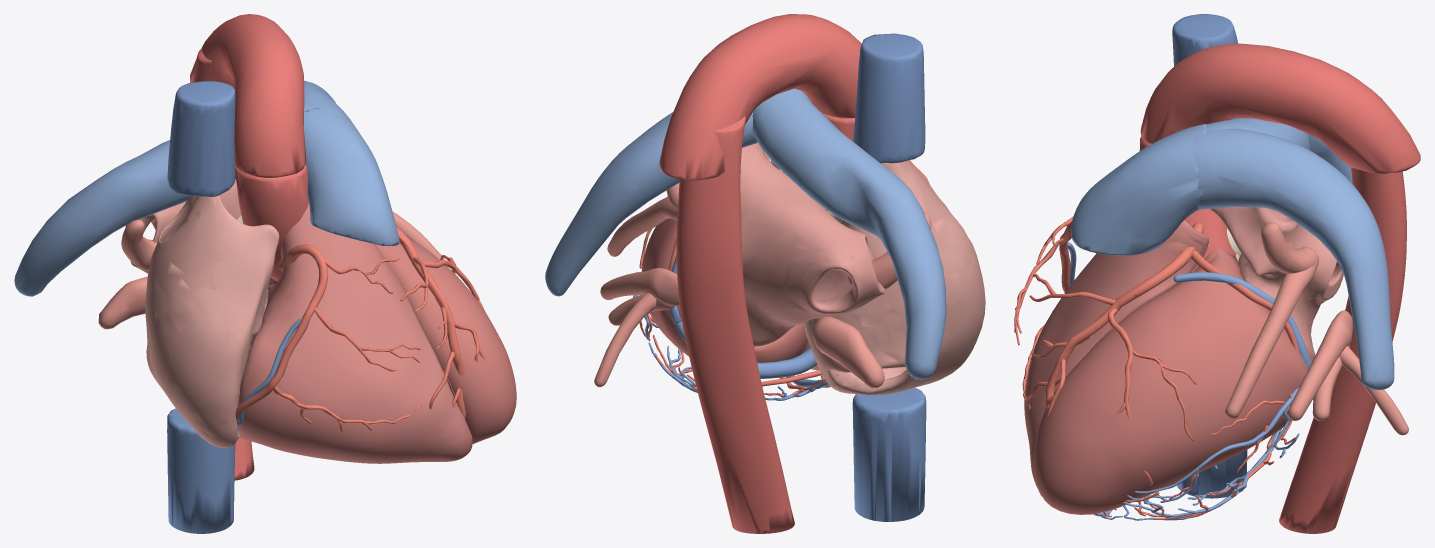
File: heart.glb
The picture shows the model from 3 angles, left to right: view 1: azimuth 30°, elevation 25°; view 2: azimuth 150°, elevation 25°; view 3: azimuth 270°, elevation 25°; orthographic projection. The views are drawn at different scales.
Visible parts, largest first — view 1: right_ventricle, right_atrium, aortic_arch, left_ventricle, right_pulmonary_artery, pulmonary_trunk, superior_vena_cava, inferior_vena_cava, right_coronary_artery, ascending_aorta, anterior_interventricular_artery, right_pulmonary_veins (+5 smaller); view 2: descending_aorta, right_pulmonary_artery, aortic_arch, left_atrium, right_atrium, inferior_vena_cava, left_pulmonary_artery, superior_vena_cava, left_pulmonary_veins, right_pulmonary_veins, left_ventricle, coronary_sinus (+2 smaller); view 3: left_ventricle, aortic_arch, left_pulmonary_artery, descending_aorta, pulmonary_trunk, right_ventricle, left_pulmonary_veins, left_atrium, anterior_interventricular_artery, right_coronary_artery, other_cardiac_veins, superior_vena_cava (+5 smaller).
Part boxes in pixels (x1,y1,x2,y2): right_ventricle: (238, 203, 472, 463); right_atrium: (145, 195, 279, 447); aortic_arch: (190, 14, 305, 177); left_ventricle: (268, 238, 516, 443); right_pulmonary_artery: (14, 101, 313, 296); pulmonary_trunk: (303, 108, 399, 246); superior_vena_cava: (167, 81, 235, 196); inferior_vena_cava: (167, 408, 235, 533); right_coronary_artery: (235, 244, 421, 431); ascending_aorta: (235, 164, 308, 281); anterior_interventricular_artery: (396, 227, 486, 418); right_pulmonary_veins: (98, 219, 156, 329); descending_aorta: (676, 116, 794, 533); right_pulmonary_artery: (752, 88, 946, 379); aortic_arch: (659, 14, 861, 180); left_atrium: (740, 143, 885, 346); right_atrium: (804, 160, 985, 395); inferior_vena_cava: (852, 387, 926, 521); left_pulmonary_artery: (545, 111, 757, 296); superior_vena_cava: (853, 33, 925, 163); left_pulmonary_veins: (594, 183, 679, 387); right_pulmonary_veins: (812, 212, 931, 388); left_ventricle: (641, 218, 808, 362); coronary_sinus: (675, 322, 816, 378); left_ventricle: (1033, 248, 1312, 514); aortic_arch: (1140, 43, 1420, 173); left_pulmonary_artery: (1190, 128, 1394, 389); descending_aorta: (1279, 167, 1406, 533); pulmonary_trunk: (1071, 124, 1206, 255); right_ventricle: (1024, 220, 1208, 496); left_pulmonary_veins: (1225, 222, 1408, 435); left_atrium: (1210, 206, 1343, 360); anterior_interventricular_artery: (1026, 246, 1196, 517); right_coronary_artery: (1014, 216, 1295, 520); other_cardiac_veins: (1123, 388, 1299, 520); superior_vena_cava: (1172, 14, 1238, 118).
Bounding box in the file's own units: 0.1408 × 0.1649 × 0.1267.
